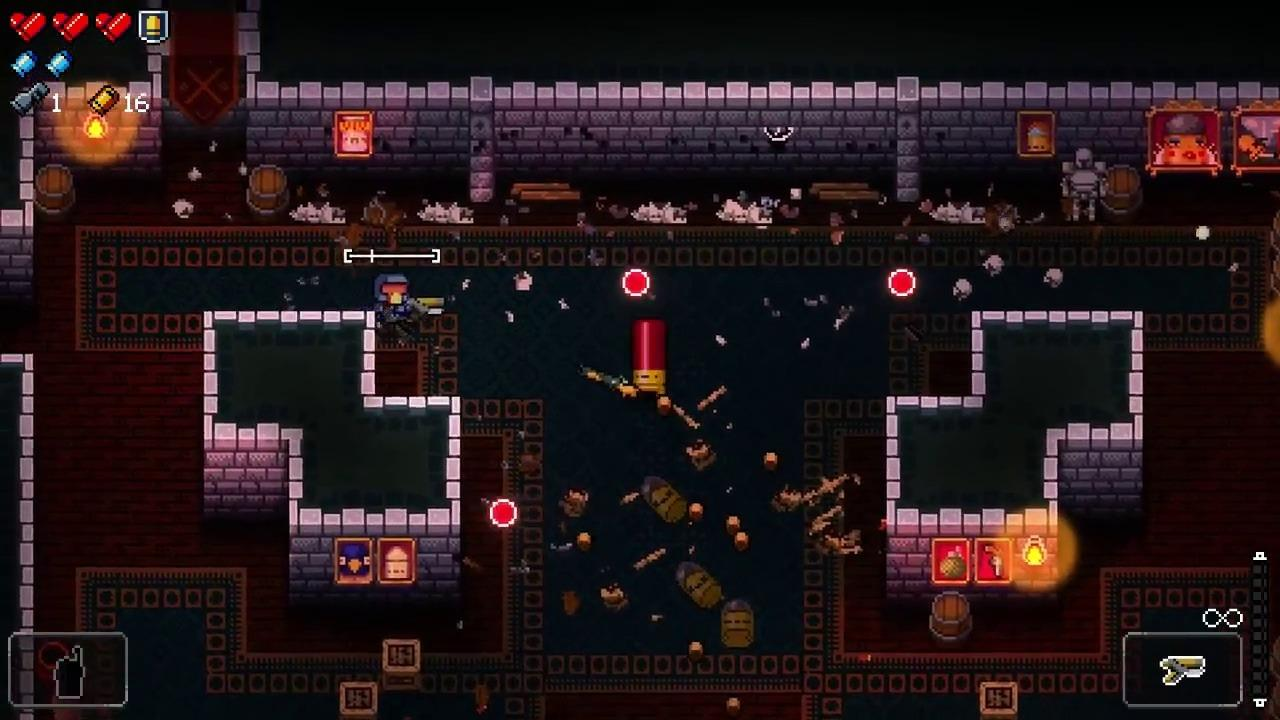blocked_door: (161, 11, 248, 134)
dead_bullet_kin: (676, 560, 724, 608), (641, 475, 688, 522), (722, 598, 754, 648)
hollow_bullet: (622, 269, 652, 298), (887, 268, 916, 298), (488, 498, 518, 527)
player: (373, 272, 410, 325)
red_shotgun_kin: (631, 318, 667, 396)
